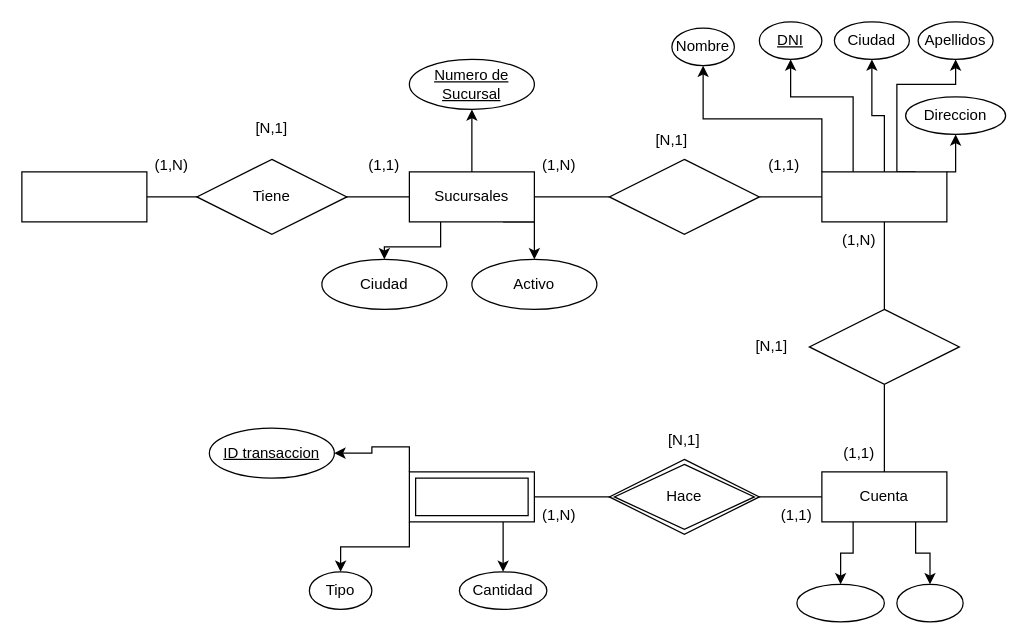
Some shapes in this 1028 by 644 pixel diagram are drawn without their labels. The shapes that lost their labels are listed below. From the top down, each one's centre as x and y in pixels, then its label:
At [84,196]: "Banco".
At [683,196]: "Acude".
At [884,196]: "Cliente".
At [883,346]: "Abre".
At [471,496]: "Transacción".
At [840,602]: "Numero".
At [929,602]: "Saldo".
